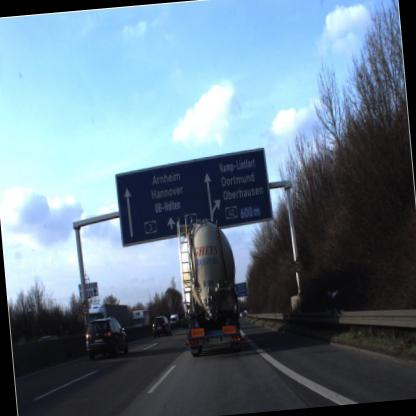prohibitory: (78, 300, 92, 317), (293, 256, 303, 278)
